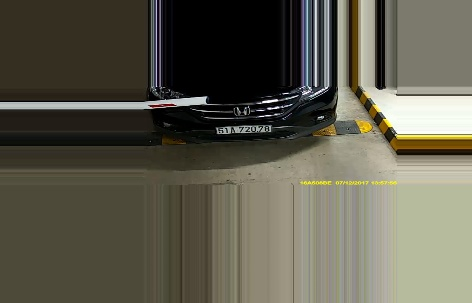plate: (215, 123, 271, 136)
